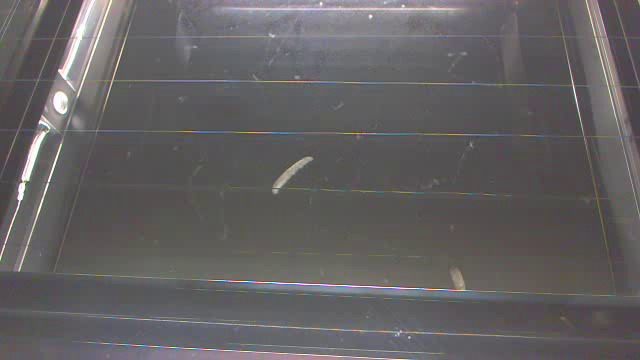alpha: (264, 153, 315, 195), (443, 262, 475, 290)
